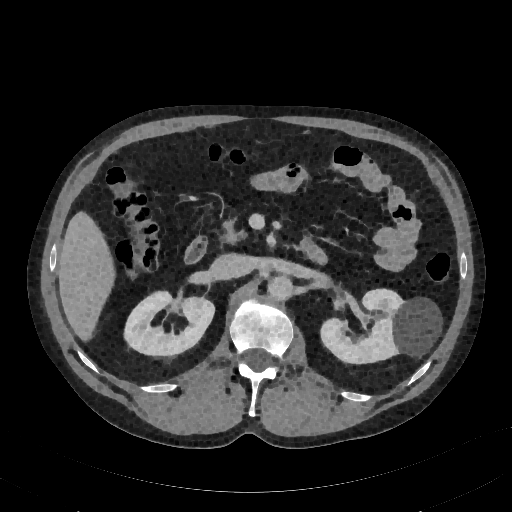Lesion: (390, 293, 446, 364)
